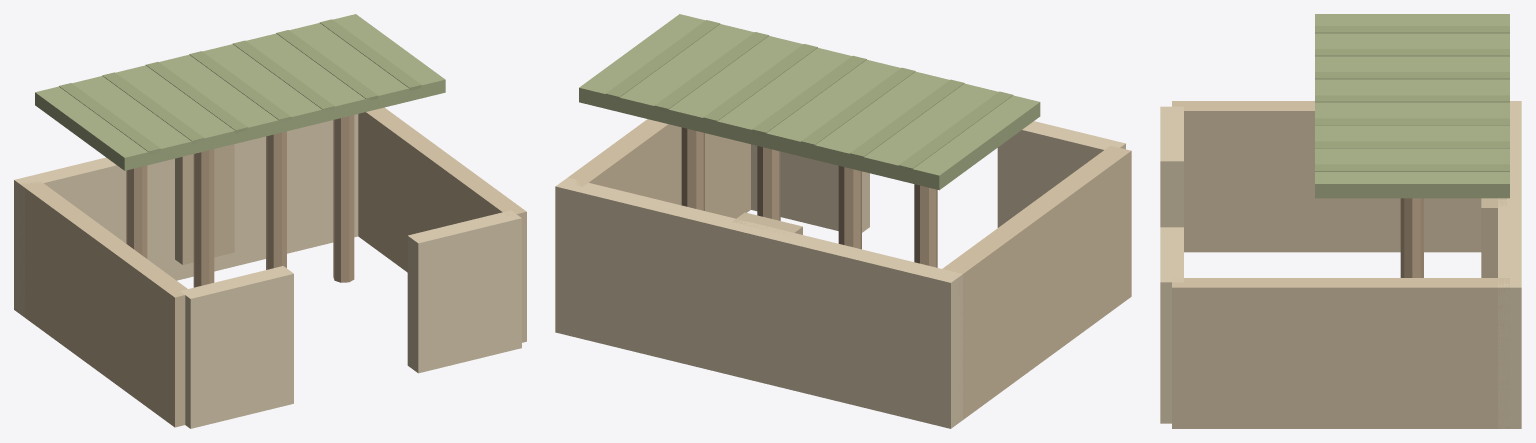
File: masjid_nabawi.glb
3 views of the same model, side by side, from view 1: azimuth 30°, elevation 25°; view 2: azimuth 150°, elevation 25°; view 3: azimuth 270°, elevation 25° (orthographic). The views are drawn at different scales.
Visible parts, largest first — view 1: masjid_nabawi; view 2: masjid_nabawi; view 3: masjid_nabawi.
Boxes of the visible parts, bbox=[...] form: masjid_nabawi: bbox=[14, 14, 526, 428]; masjid_nabawi: bbox=[555, 14, 1131, 428]; masjid_nabawi: bbox=[1160, 14, 1521, 428].
Bounding box in the file's own units: 3.4 × 2.02 × 2.78.
